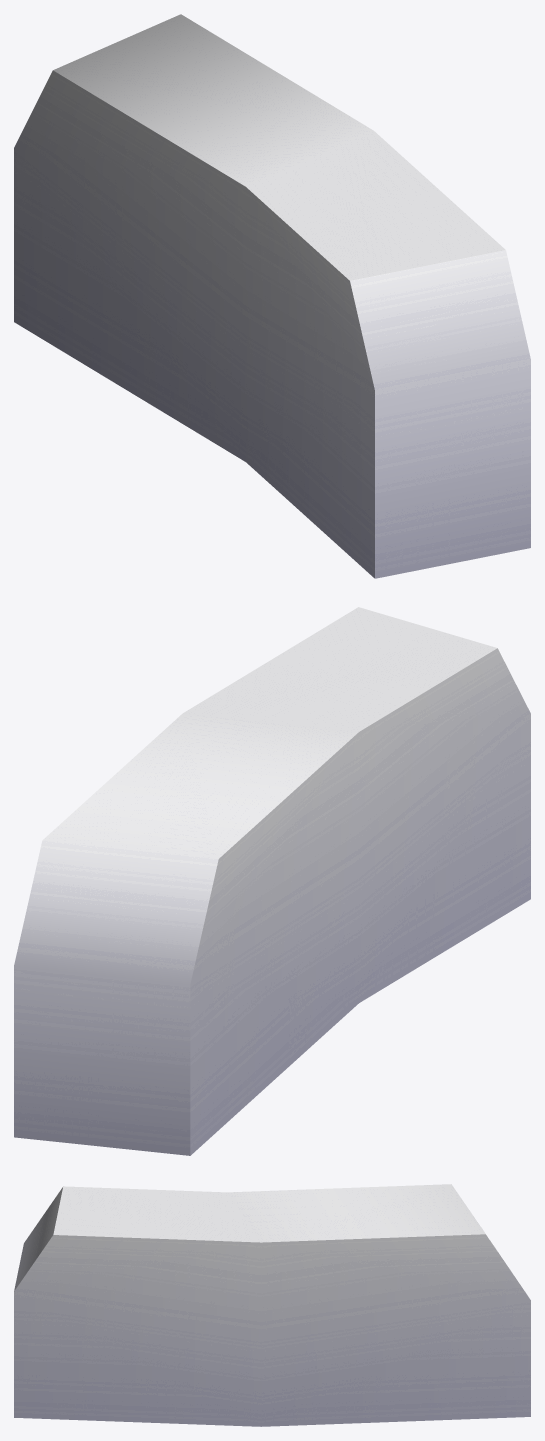
The model's file is arm-right_lev2.glb.
3 renders of one model, top to bottom at view 1: azimuth 30°, elevation 25°; view 2: azimuth 150°, elevation 25°; view 3: azimuth 270°, elevation 25°, orthographic. The views are drawn at different scales.
Parts seen in each view (by area): view 1: arm-right_lev2; view 2: arm-right_lev2; view 3: arm-right_lev2.
Part boxes in pixels (x1,y1,x2,y2): arm-right_lev2: (14,14,530,578); arm-right_lev2: (14,607,530,1155); arm-right_lev2: (14,1184,530,1426).
Bounding box in the file's own units: 0.2976 × 0.4258 × 1.08.
Materials: 1 (1 with a texture image).
